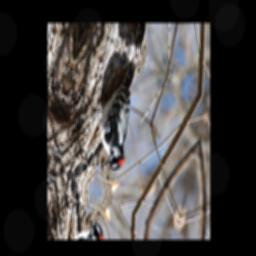Woodpecker: (88, 51, 149, 179)
